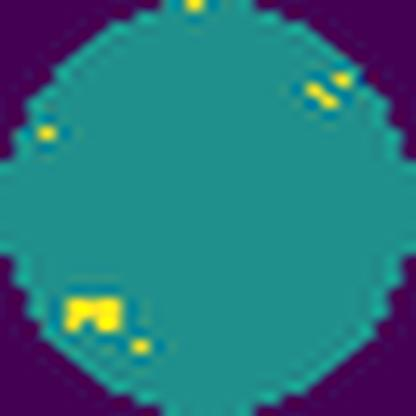Loc: (63, 290, 132, 341)
